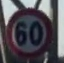limite 60: (3, 2, 52, 60)
